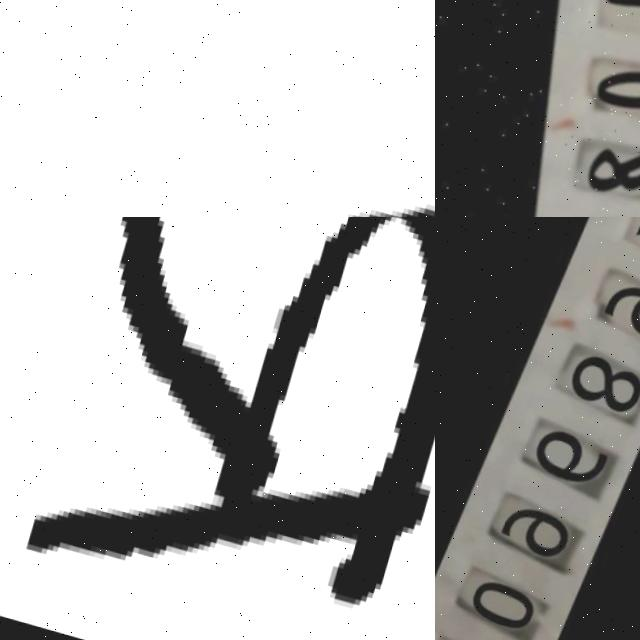0: (461, 565, 560, 640), (583, 42, 640, 133)
1: (591, 0, 640, 49)
6: (521, 411, 630, 498)
8: (559, 337, 640, 423), (574, 121, 640, 213)
9: (495, 490, 594, 569), (591, 263, 640, 350)
R: (13, 217, 435, 640)
